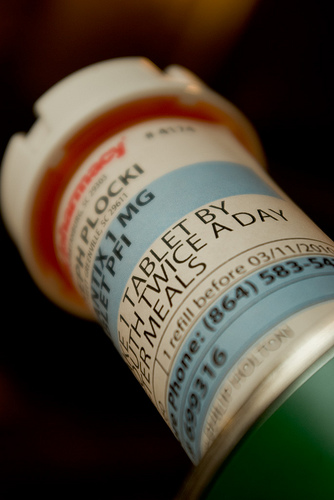pill bottle: (4, 56, 319, 436)
